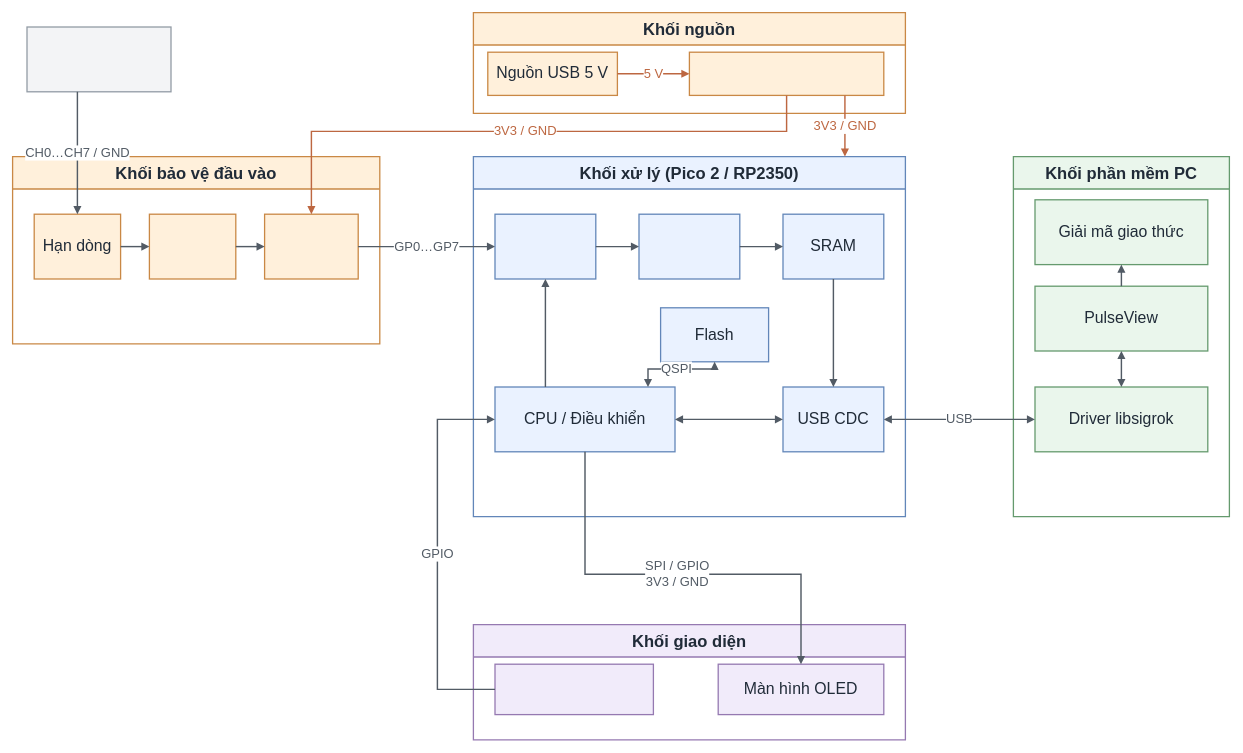
Image size: 1243x753. Some labels were removed from this diagram. The shapes that lost their labels are listed below. From the top down, each one's centre as x and y in pixels, then its label:
At (98,59): "Mạch cần đo".
At (786,73): "Ổn áp 3,3 V".
At (192,246): "Kẹp quá áp".
At (311,246): "Đệm logic".
At (545,246): "PIO".
At (689,246): "DMA".
At (574,689): "Nút bấm".
